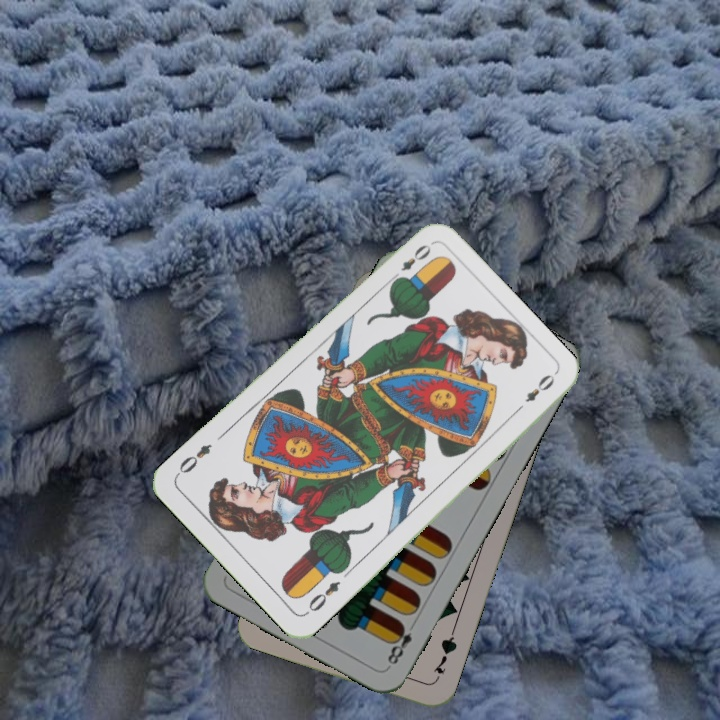E8: (383, 617, 419, 670)
EO: (387, 240, 434, 285), (304, 577, 343, 614)
G7: (429, 626, 460, 684)
